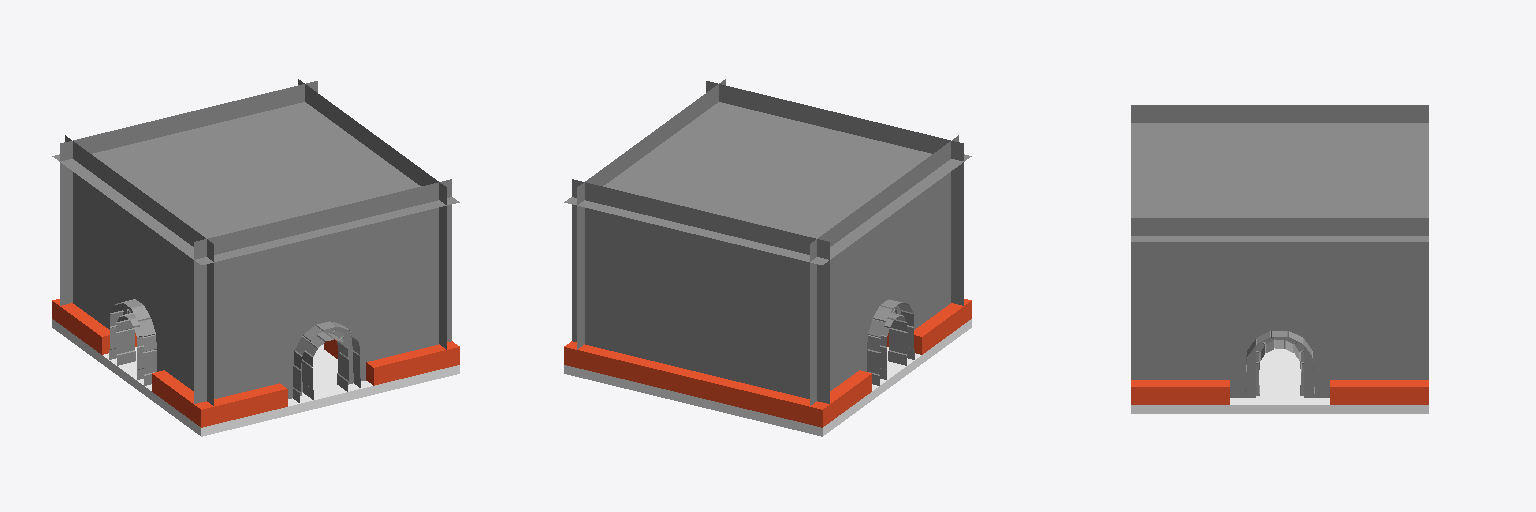
Rendered from tInter.obj.
3 renders of one model, left to right at view 1: azimuth 30°, elevation 25°; view 2: azimuth 150°, elevation 25°; view 3: azimuth 270°, elevation 25°, orthographic.
Visible parts, largest first — view 1: struct_ceiling_1, struct_wall_main_half_27, struct_door_5, struct_wall_main_half_5, struct_wall_main_half_9, struct_wall_main_half_26, struct_wall_main_half_25, struct_wall_main_half_4, block_default_0, struct_door_6, struct_wall_main_half_12, open_block_30 (+5 smaller); view 2: struct_wall_main_half_9, struct_ceiling_1, open_block_19, struct_wall_main_half_4, struct_wall_main_half_5, struct_wall_main_half_27, struct_door_6, block_default_0, struct_wall_main_half_12, struct_wall_main_half_6, open_block_30, struct_wall_main_half_26 (+2 smaller); view 3: struct_ceiling_1, struct_wall_main_half_6, struct_wall_main_half_7, struct_wall_main_half_11, struct_door_7, block_default_0, open_block_19, open_block_29, struct_wall_main_half_12, struct_wall_main_half_4, struct_wall_main_half_5.
Boxes of the visible parts, x1=… form: struct_ceiling_1: x1=52, y1=102, x2=459, y2=264; struct_wall_main_half_27: x1=194, y1=179, x2=451, y2=331; struct_door_5: x1=280, y1=290, x2=365, y2=402; struct_wall_main_half_5: x1=65, y1=135, x2=114, y2=329; struct_wall_main_half_9: x1=60, y1=81, x2=317, y2=305; struct_wall_main_half_26: x1=194, y1=311, x2=279, y2=403; struct_wall_main_half_25: x1=366, y1=269, x2=451, y2=361; struct_wall_main_half_4: x1=165, y1=209, x2=213, y2=405; block_default_0: x1=52, y1=319, x2=459, y2=436; struct_door_6: x1=109, y1=262, x2=164, y2=385; struct_wall_main_half_12: x1=115, y1=172, x2=164, y2=297; open_block_30: x1=152, y1=370, x2=287, y2=427; struct_wall_main_half_9: x1=572, y1=179, x2=829, y2=403; struct_ceiling_1: x1=564, y1=102, x2=971, y2=264; open_block_19: x1=564, y1=341, x2=871, y2=427; struct_wall_main_half_4: x1=909, y1=135, x2=958, y2=329; struct_wall_main_half_5: x1=810, y1=209, x2=858, y2=405; struct_wall_main_half_27: x1=706, y1=81, x2=963, y2=233; struct_door_6: x1=859, y1=262, x2=914, y2=385; block_default_0: x1=564, y1=319, x2=971, y2=436; struct_wall_main_half_12: x1=859, y1=172, x2=908, y2=297; struct_wall_main_half_6: x1=577, y1=151, x2=626, y2=349; open_block_30: x1=887, y1=299, x2=971, y2=354; struct_wall_main_half_26: x1=951, y1=231, x2=963, y2=305; struct_ceiling_1: x1=1131, y1=123, x2=1428, y2=241; struct_wall_main_half_6: x1=1330, y1=218, x2=1428, y2=379; struct_wall_main_half_7: x1=1131, y1=218, x2=1229, y2=379; struct_wall_main_half_11: x1=1230, y1=218, x2=1329, y2=307; struct_door_7: x1=1230, y1=308, x2=1329, y2=397; block_default_0: x1=1131, y1=348, x2=1428, y2=413; open_block_19: x1=1330, y1=380, x2=1428, y2=404; open_block_29: x1=1131, y1=380, x2=1229, y2=404; struct_wall_main_half_12: x1=1230, y1=105, x2=1329, y2=122; struct_wall_main_half_4: x1=1131, y1=105, x2=1229, y2=122; struct_wall_main_half_5: x1=1330, y1=105, x2=1428, y2=122.
Size of the model in its own units: 3 by 2.1 by 3.